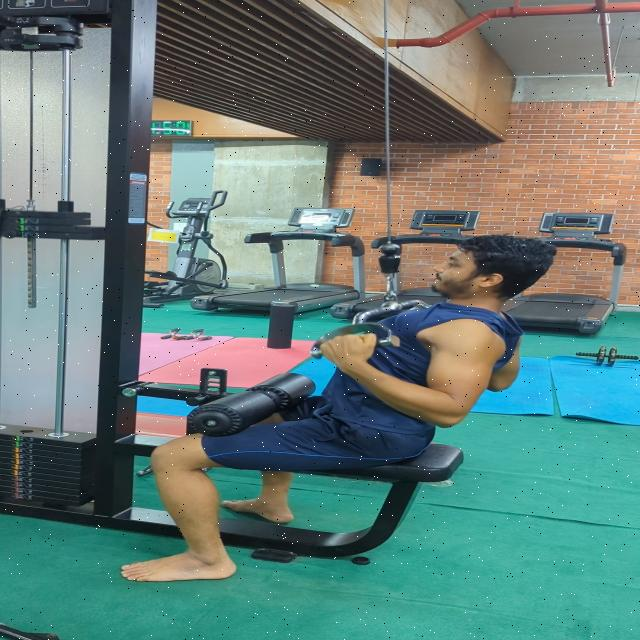Normal_LatPulldown: (92, 218, 572, 585)
